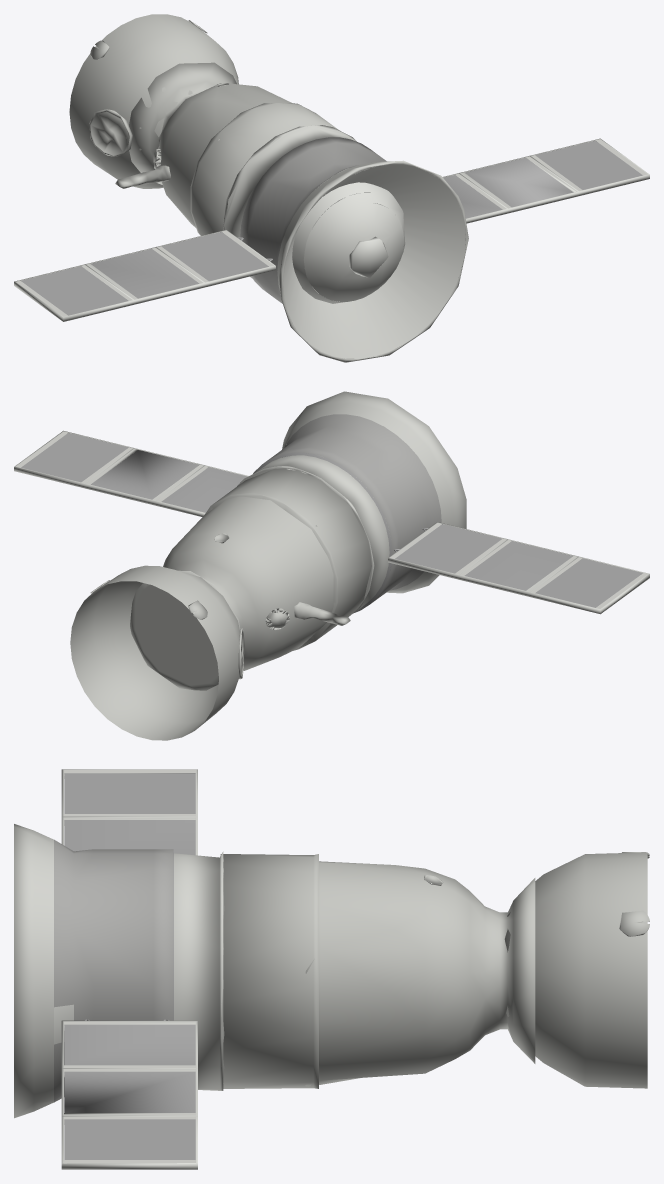
File: iss-soyuz-zvezda-zenith.glb
The picture shows the model from 3 angles, top to bottom: view 1: azimuth 30°, elevation 25°; view 2: azimuth 150°, elevation 25°; view 3: azimuth 270°, elevation 25°; orthographic projection. The views are drawn at different scales.
Visible parts, largest first — view 1: soyuz-zvezda-zenith; view 2: soyuz-zvezda-zenith; view 3: soyuz-zvezda-zenith.
Boxes of the visible parts, x1,y1,x2,y2 form: soyuz-zvezda-zenith: [14, 14, 649, 362]; soyuz-zvezda-zenith: [14, 391, 649, 740]; soyuz-zvezda-zenith: [14, 769, 649, 1169].
Size of the model in its own units: 7.22 by 2.29 by 4.92.
1 material, 1 textured.
